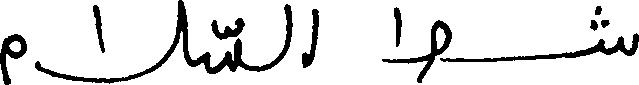X: (38, 0, 182, 84), (386, 2, 450, 84), (601, 3, 638, 60), (207, 13, 239, 78), (0, 29, 24, 84), (303, 4, 316, 72), (283, 0, 290, 62)
